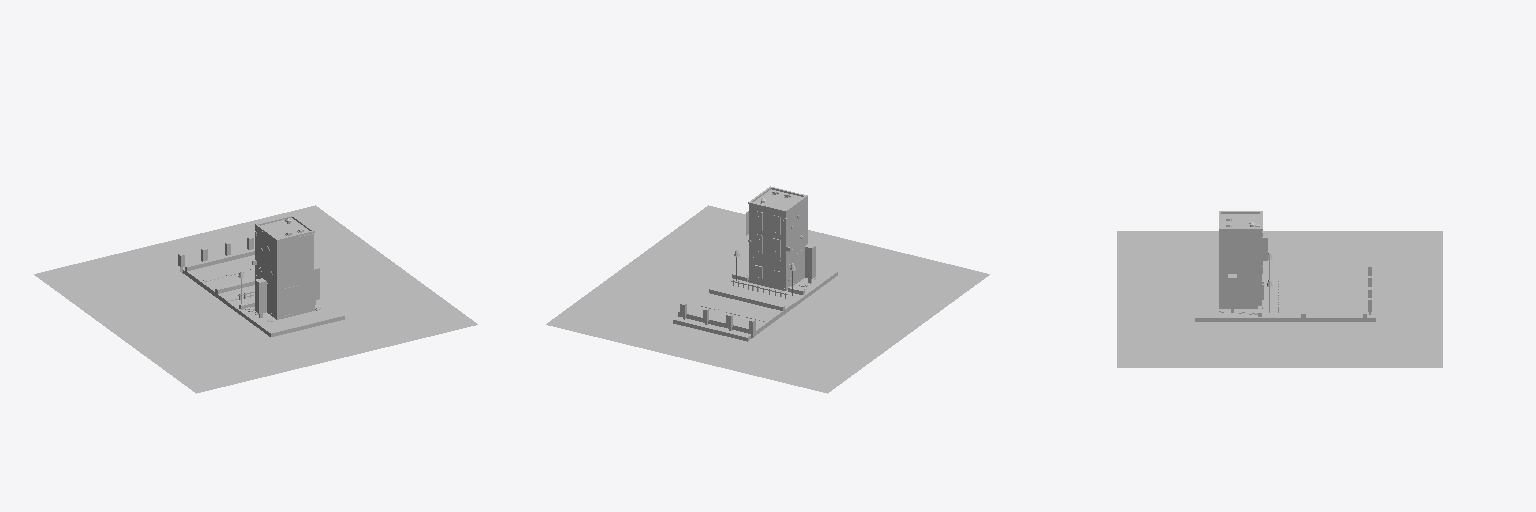
3 renders of one model, left to right at view 1: azimuth 30°, elevation 25°; view 2: azimuth 150°, elevation 25°; view 3: azimuth 270°, elevation 25°, orthographic.
Parts seen in each view (by area): view 1: Plane_Mesh, Cube.705_Mesh, Cube.706_Mesh, Road_Mesh, Cube.708_Mesh; view 2: Plane_Mesh, Road_Mesh, Cube.706_Mesh, Cube.708_Mesh, Cube.718_Mesh, Cube.705_Mesh; view 3: Plane_Mesh, Road_Mesh, Cube.706_Mesh, Cube.705_Mesh, Cube.708_Mesh.
Part boxes in pixels (x1,y1,x2,y2): Plane_Mesh: (34,205,477,393); Cube.705_Mesh: (257,228,313,318); Cube.706_Mesh: (182,267,344,336); Road_Mesh: (186,255,254,301); Cube.708_Mesh: (255,275,314,319); Plane_Mesh: (546,205,989,393); Road_Mesh: (678,284,794,333); Cube.706_Mesh: (673,265,837,341); Cube.708_Mesh: (749,248,804,290); Cube.718_Mesh: (749,205,786,290); Cube.705_Mesh: (787,198,807,260); Plane_Mesh: (1117,231,1442,367); Road_Mesh: (1281,282,1366,318); Cube.706_Mesh: (1195,282,1375,321); Cube.705_Mesh: (1219,231,1259,279); Cube.708_Mesh: (1219,280,1261,306).
Bounding box in the file's own units: 152 × 44.82 × 152.